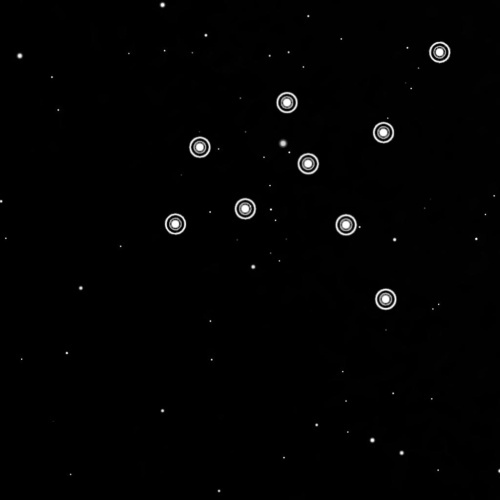cygnus: (160, 35, 455, 313)
